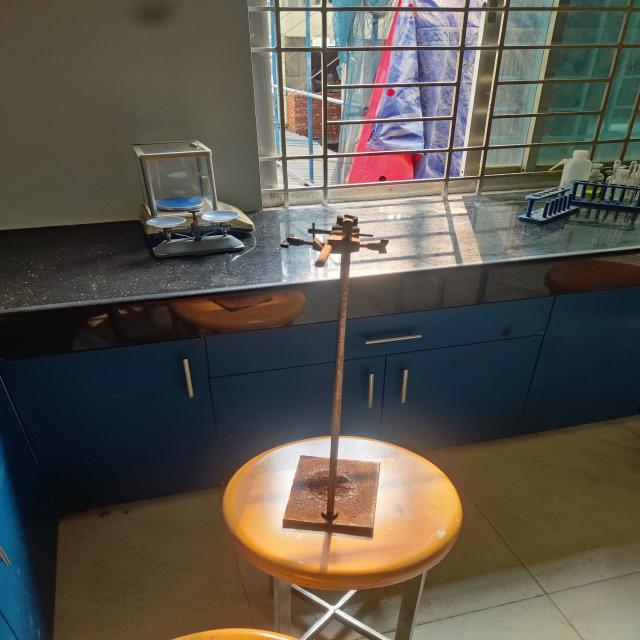Burette_Stands: (274, 202, 419, 564)
